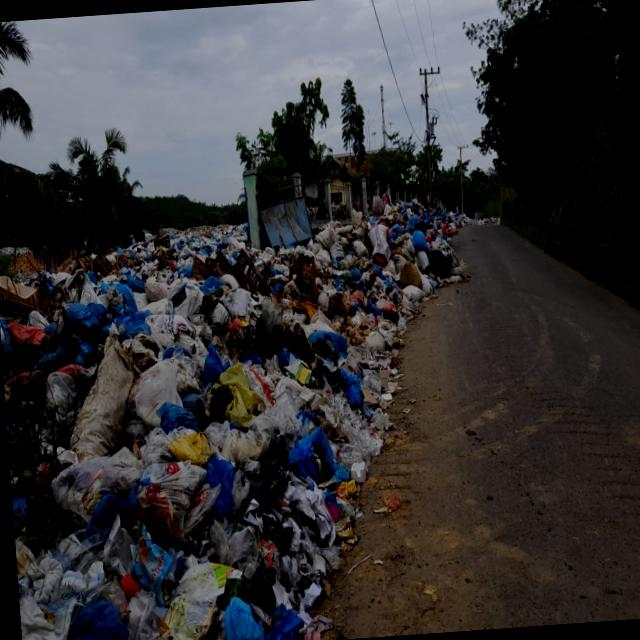garbage: (0, 185, 451, 640)
